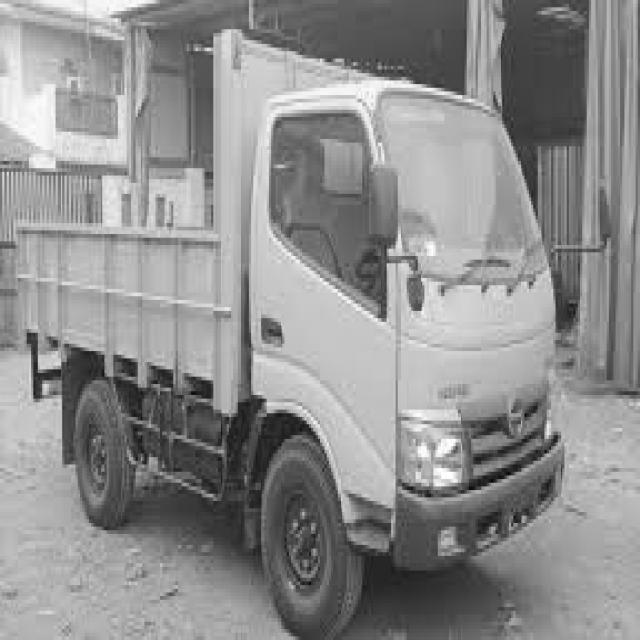truck: (243, 68, 640, 640)
